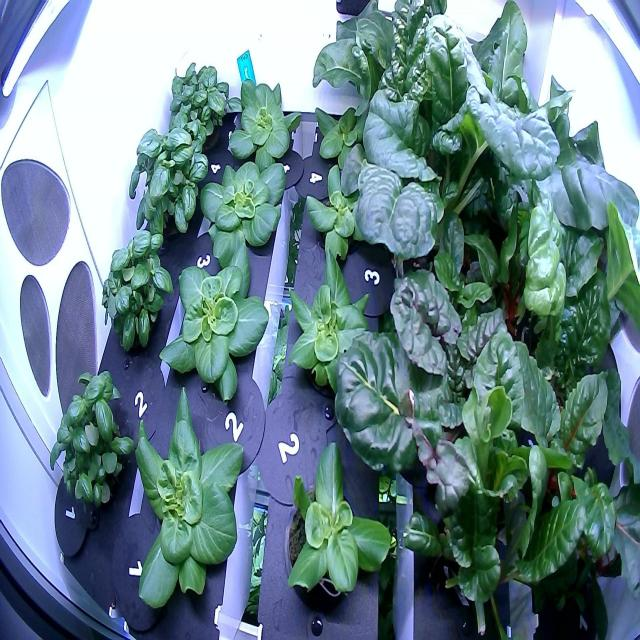young: (129, 382, 267, 623), (271, 428, 398, 609), (155, 236, 274, 414), (286, 239, 394, 412), (196, 145, 296, 283), (303, 155, 397, 273), (299, 86, 398, 189), (224, 71, 306, 181)
